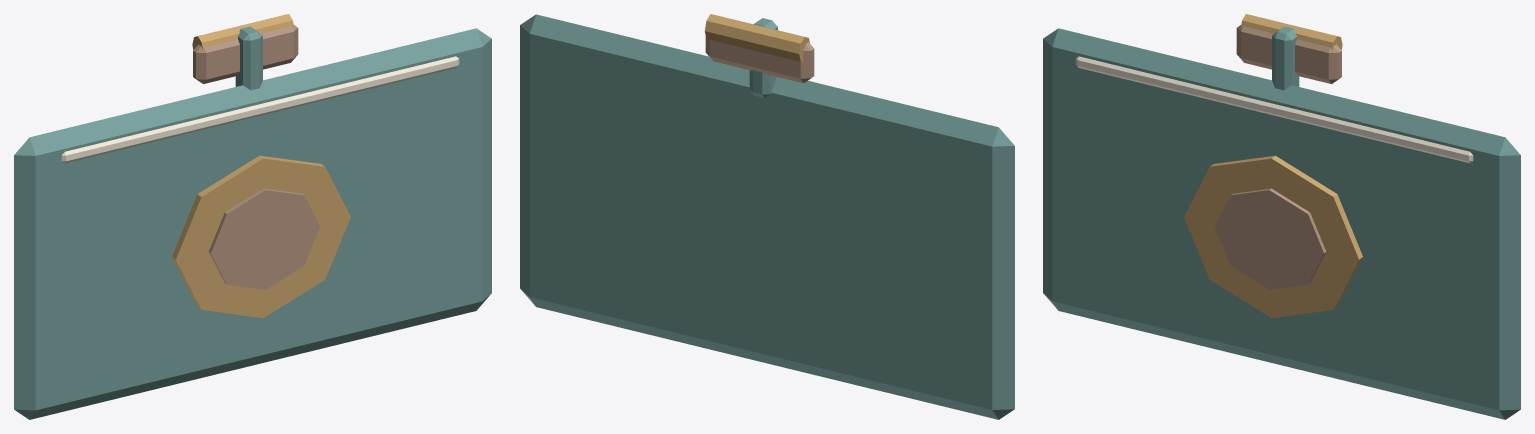
The model's file is I01_art_repair_candidate.glb.
3 renders of one model, left to right at view 1: azimuth 30°, elevation 25°; view 2: azimuth 150°, elevation 25°; view 3: azimuth 330°, elevation 25°, orthographic. The views are drawn at different scales.
Visible parts, largest first — view 1: I01_Swinging_Sign_Body, I01_Swinging_Strike_Plate, I01_Swinging_Strike_Centre, I01_Swinging_Cream_Upper_Trim, I01_Fixed_Wall_Mount, I01_Fixed_Hinge_Lugs, I01_Fixed_Hinge_Pin; view 2: I01_Swinging_Sign_Body, I01_Fixed_Hinge_Pin, I01_Fixed_Wall_Mount, I01_Fixed_Hinge_Lugs; view 3: I01_Swinging_Sign_Body, I01_Swinging_Strike_Plate, I01_Swinging_Strike_Centre, I01_Swinging_Cream_Upper_Trim, I01_Fixed_Wall_Mount, I01_Fixed_Hinge_Lugs, I01_Fixed_Hinge_Pin.
Boxes of the visible parts, x1,y1,x2,y2 form: I01_Swinging_Sign_Body: (14, 28, 491, 419); I01_Swinging_Strike_Plate: (172, 155, 350, 318); I01_Swinging_Strike_Centre: (208, 188, 320, 289); I01_Swinging_Cream_Upper_Trim: (61, 56, 459, 163); I01_Fixed_Wall_Mount: (193, 25, 298, 83); I01_Fixed_Hinge_Lugs: (235, 26, 262, 90); I01_Fixed_Hinge_Pin: (192, 14, 294, 50); I01_Swinging_Sign_Body: (520, 14, 1014, 419); I01_Fixed_Hinge_Pin: (705, 14, 809, 62); I01_Fixed_Wall_Mount: (705, 36, 814, 83); I01_Fixed_Hinge_Lugs: (749, 18, 777, 97); I01_Swinging_Sign_Body: (1043, 28, 1520, 419); I01_Swinging_Strike_Plate: (1184, 155, 1362, 318); I01_Swinging_Strike_Centre: (1214, 188, 1326, 289); I01_Swinging_Cream_Upper_Trim: (1075, 56, 1473, 163); I01_Fixed_Wall_Mount: (1236, 25, 1341, 83); I01_Fixed_Hinge_Lugs: (1272, 26, 1299, 90); I01_Fixed_Hinge_Pin: (1240, 14, 1342, 50).
Size of the model in its own units: 3 by 2 by 0.3.
